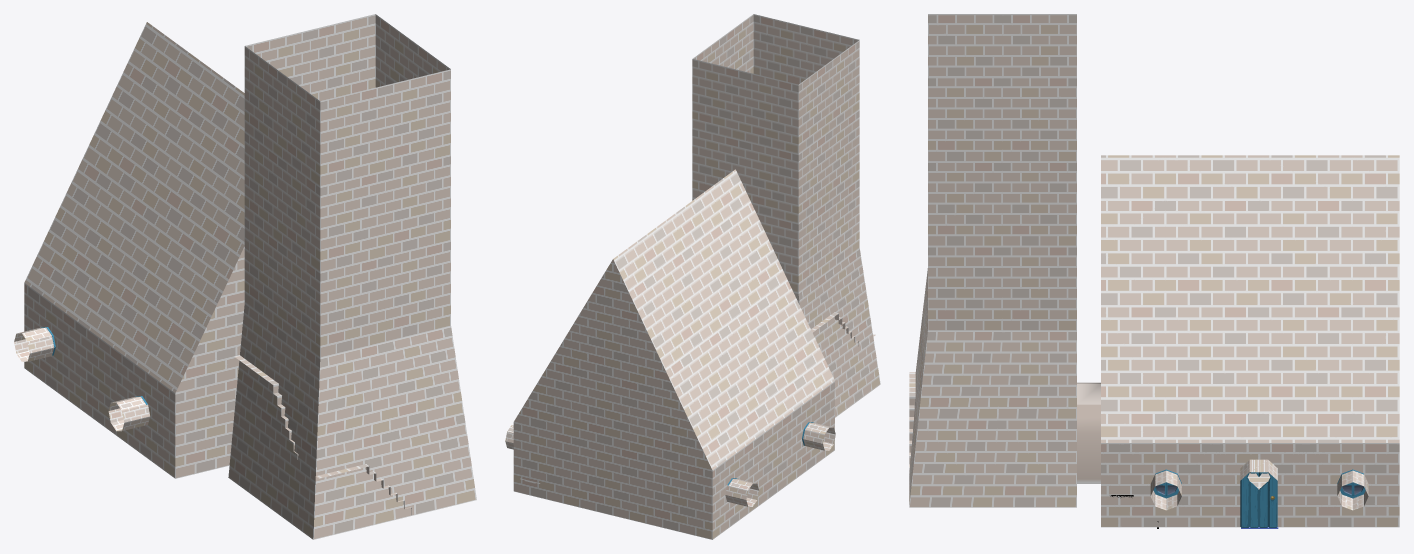
The model's file is island_inside(3).fbx.
3 views of the same model, side by side, from view 1: azimuth 30°, elevation 25°; view 2: azimuth 150°, elevation 25°; view 3: azimuth 270°, elevation 25° (orthographic). The views are drawn at different scales.
Parts seen in each view (by area): view 1: house walls and tower.001, house walls and tower, roof, house walls and tower.002; view 2: house walls and tower, roof, house walls and tower.002, house walls and tower.001; view 3: roof, house walls and tower.001, house walls and tower, door, windows.
Part boxes in pixels (box(x1,y1,x2,y2)): house walls and tower.001: box(313, 14, 476, 539); house walls and tower: box(14, 46, 320, 539); roof: box(24, 22, 244, 392); house walls and tower.002: box(245, 14, 375, 100); house walls and tower: box(505, 40, 880, 539); roof: box(613, 169, 834, 470); house walls and tower.002: box(692, 59, 799, 304); house walls and tower.001: box(692, 14, 859, 84); roof: box(1101, 155, 1399, 442); house walls and tower.001: box(909, 77, 1076, 507); house walls and tower: box(928, 14, 1399, 527); door: box(1240, 472, 1277, 527); windows: box(1153, 469, 1365, 498).
Size of the model in its own units: 727 by 1003 by 1052.
7 materials, 7 textured.
